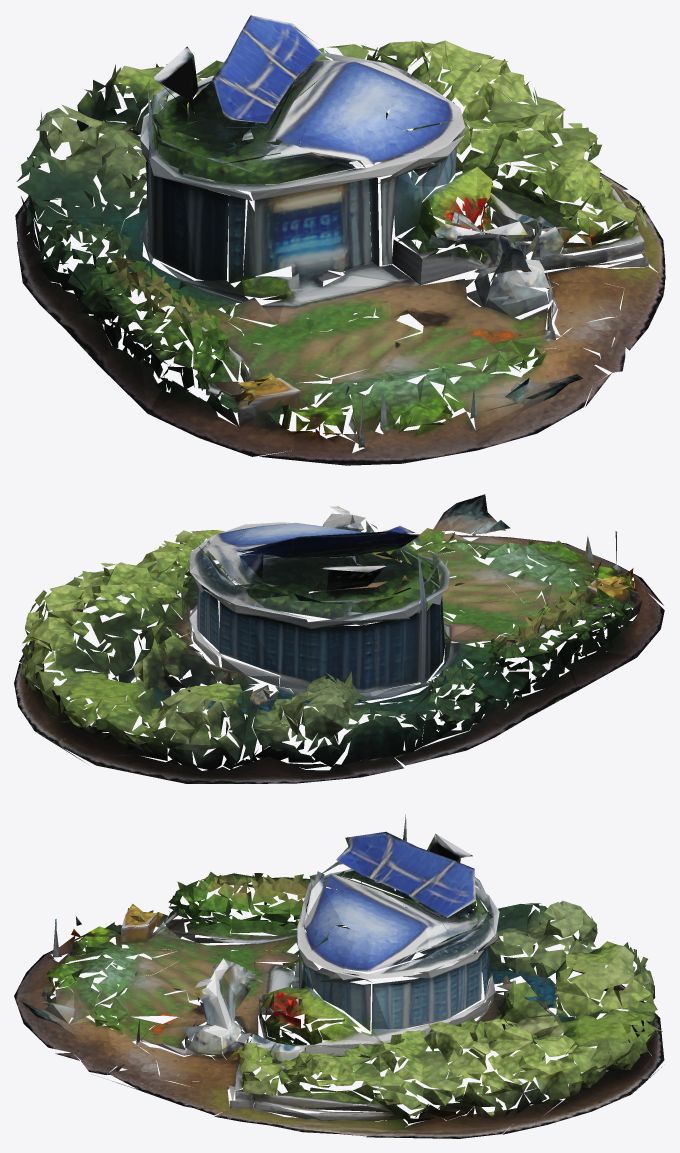
The model's file is farmhouse.glb.
3 views of the same model, one above another, from view 1: azimuth 30°, elevation 25°; view 2: azimuth 150°, elevation 25°; view 3: azimuth 270°, elevation 25° (orthographic). The views are drawn at different scales.
Parts seen in each view (by area): view 1: world.314; view 2: world.314; view 3: world.314.
Part boxes in pixels (x1=…): world.314: x1=15, y1=15, x2=665, y2=465; world.314: x1=14, y1=494, x2=664, y2=783; world.314: x1=14, y1=814, x2=664, y2=1138.
Size of the model in its own units: 0.802 by 0.2758 by 0.9965.
1 material, 1 textured.
